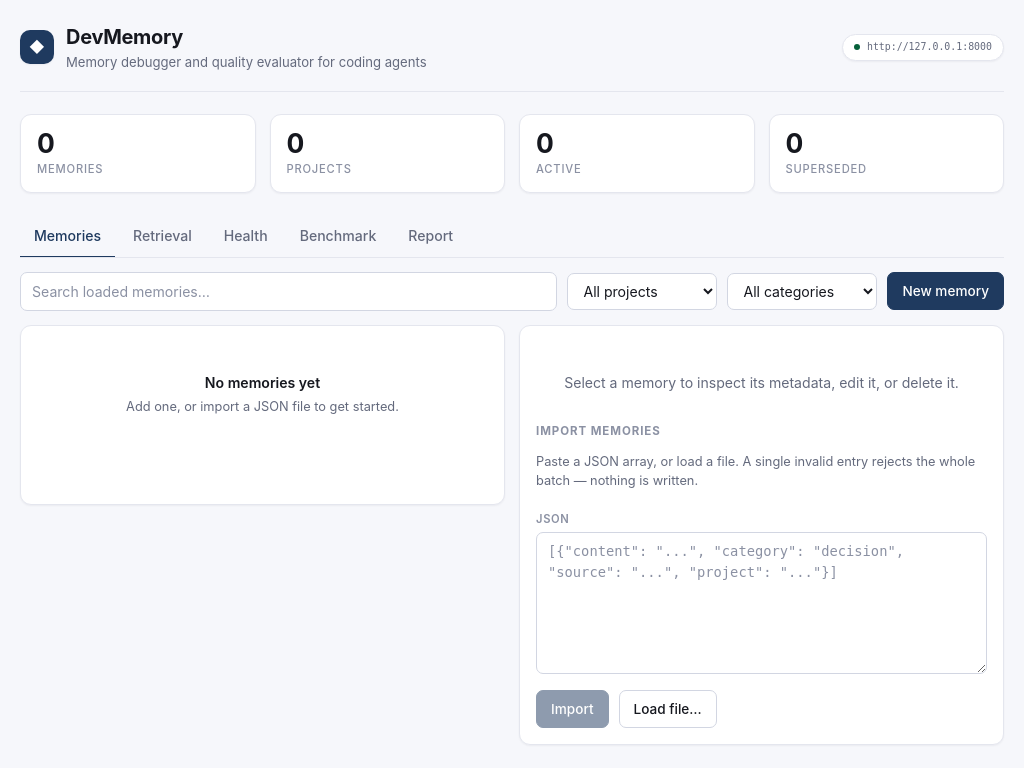
retrieval benchmark › offers no scores when there are no memories
Expected: the text "No memories yet" is shown, [205, 374, 320, 391]
Click the tab "Benchmark".
click(338, 236)  # box [286, 214, 390, 258]
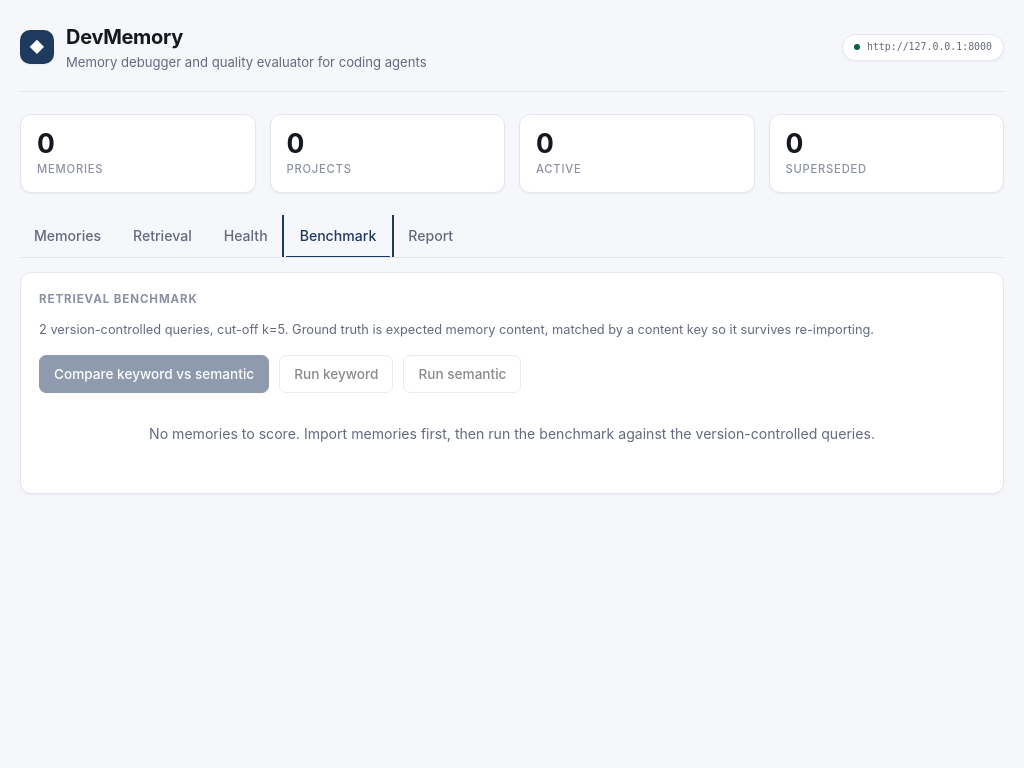
Result: the text "No memories to score" is shown at [149, 426, 875, 442]
Result: the button "Compare keyword vs semantic" is disabled at [39, 355, 269, 394]
Result: the button "Run semantic" is disabled at [404, 355, 522, 394]
